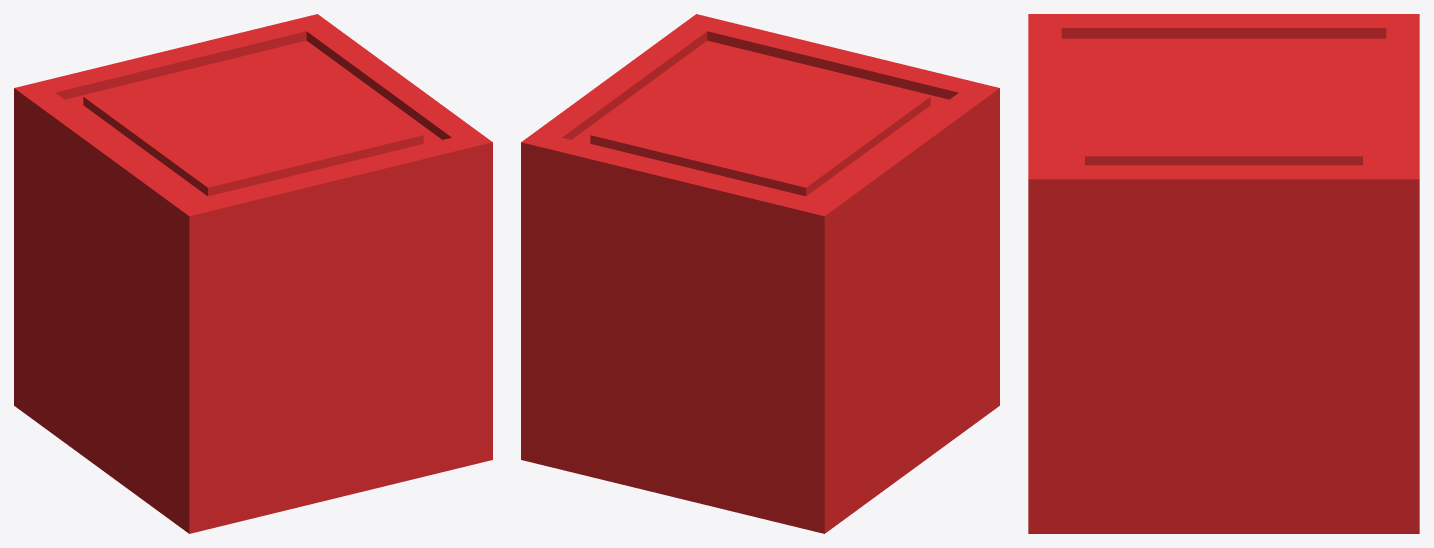
Rendered from MoveX.fbx.
3 views of the same model, side by side, from view 1: azimuth 30°, elevation 25°; view 2: azimuth 150°, elevation 25°; view 3: azimuth 270°, elevation 25° (orthographic). The views are drawn at different scales.
Visible parts, largest first — view 1: 立方体.001; view 2: 立方体.001; view 3: 立方体.001.
Boxes of the visible parts, box(x1,y1,x2,y2) form: 立方体.001: box(14, 14, 492, 533); 立方体.001: box(521, 14, 999, 533); 立方体.001: box(1028, 14, 1419, 533).
Bounding box in the file's own units: 2 × 2 × 2.
